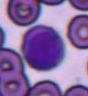L: (20, 25, 64, 71)
